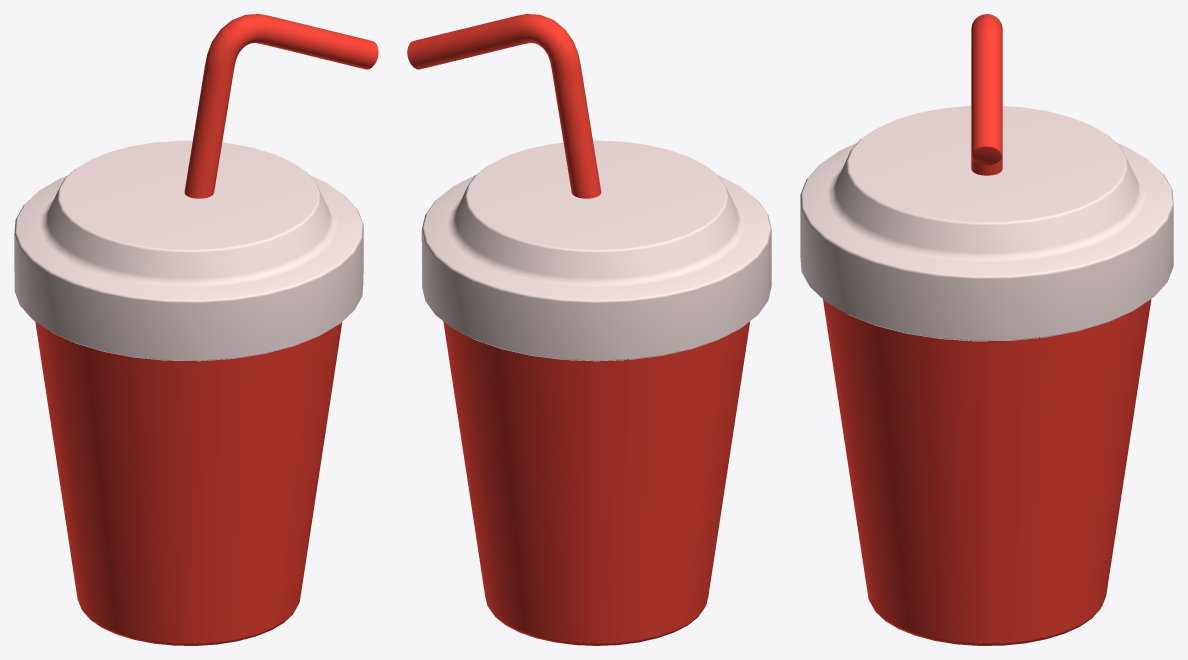
The model's file is Public_4_Drink_1.glb.
3 renders of one model, left to right at view 1: azimuth 30°, elevation 25°; view 2: azimuth 150°, elevation 25°; view 3: azimuth 270°, elevation 25°, orthographic. The views are drawn at different scales.
Visible parts, largest first — view 1: Public_4_Drink_1; view 2: Public_4_Drink_1; view 3: Public_4_Drink_1.
Boxes of the visible parts, x1,y1,x2,y2 form: Public_4_Drink_1: (14, 14, 378, 645); Public_4_Drink_1: (407, 14, 771, 645); Public_4_Drink_1: (800, 14, 1173, 645).
Size of the model in its own units: 3.65 by 5.9 by 3.27.
Materials: 1 (1 with a texture image).
